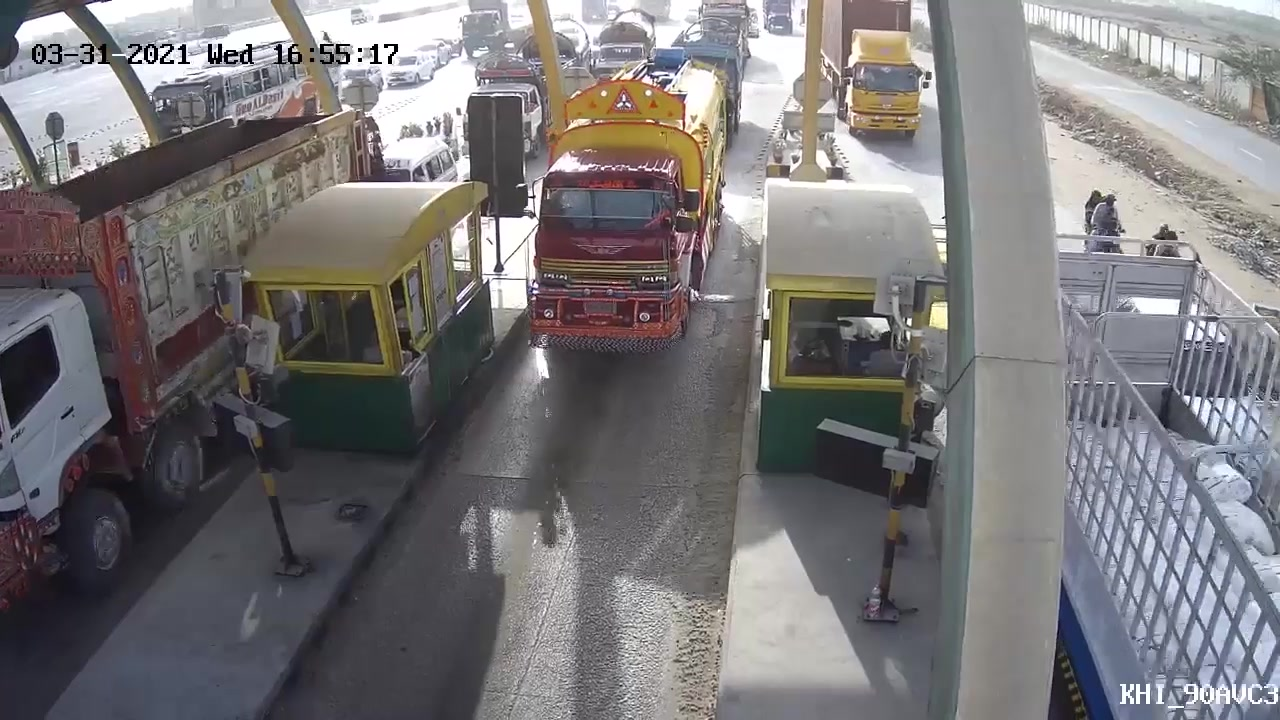F5: (530, 64, 731, 370)
